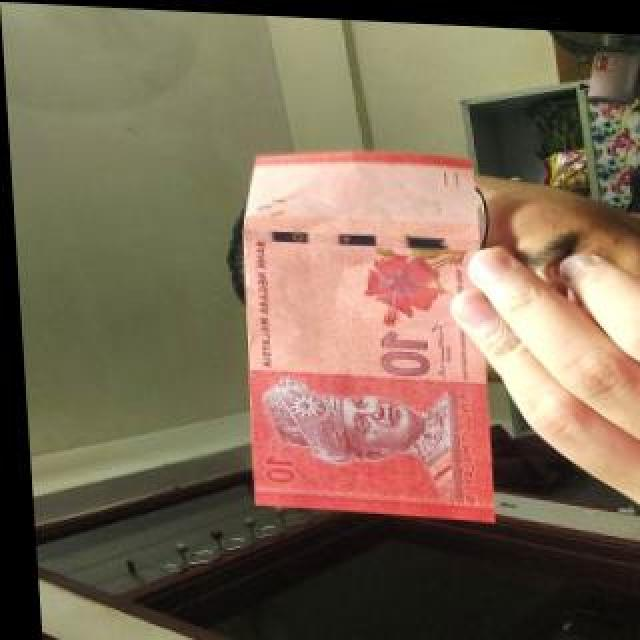10 Ringgit: (232, 136, 495, 518)
